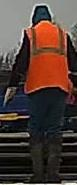gloves: (3, 84, 17, 109)
vest: (22, 20, 70, 94)
